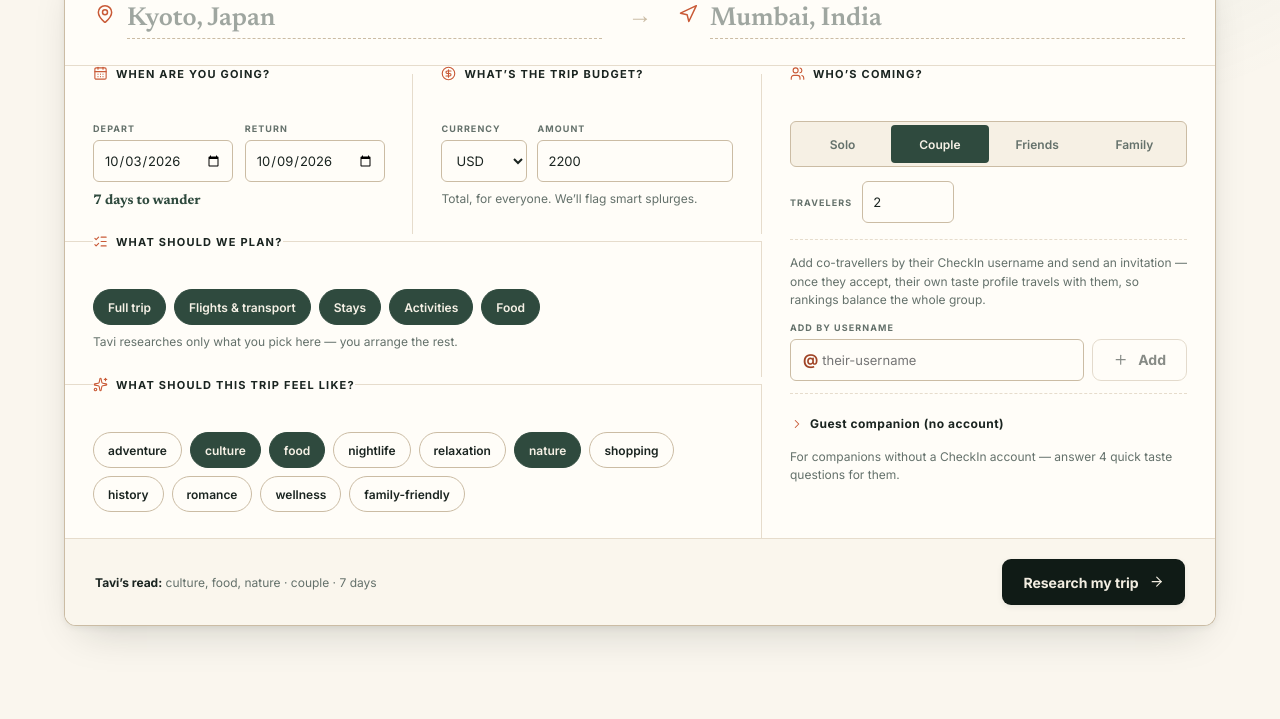
Scenario: shows an inline error when no CheckIn user has that username
The width and height of the screenshot is (1280, 719).
(page scrolled)
In the field labelled "Add by username": point(952, 360) top-left (820, 340), bottom-right (1083, 380), type "ghost"
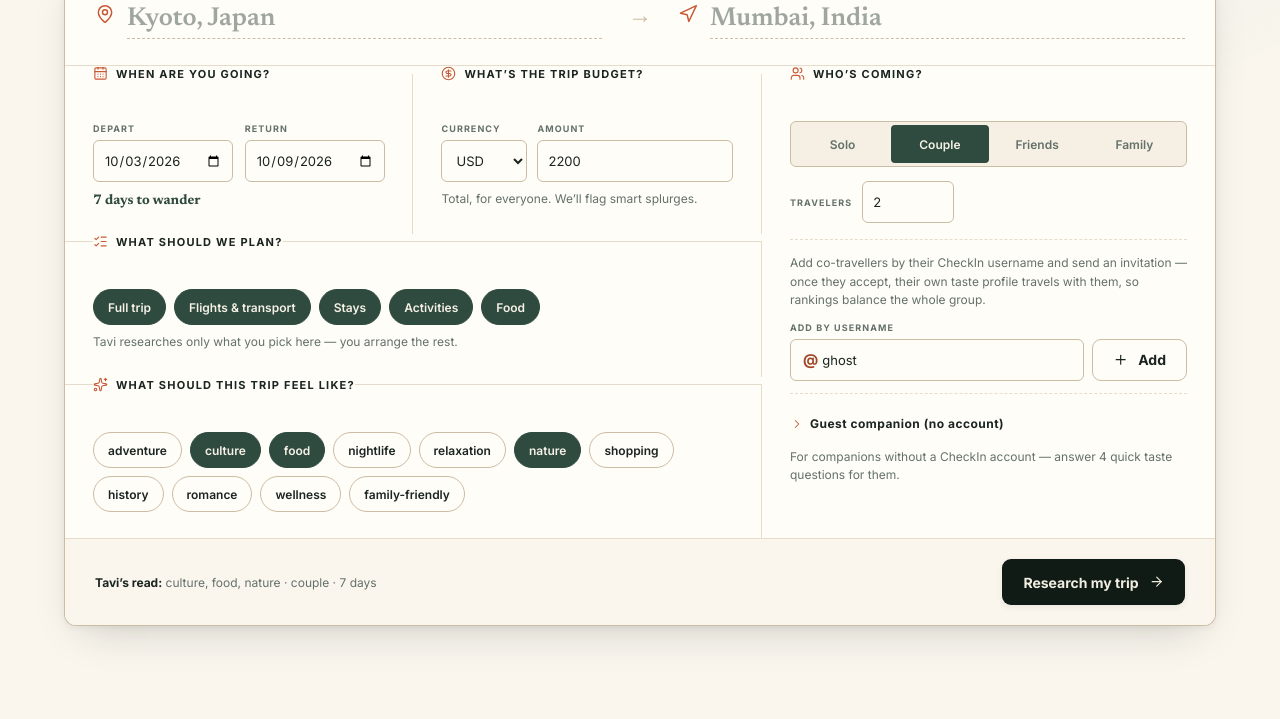
Click the button "Add": point(1139, 360) top-left (1092, 339), bottom-right (1187, 381)
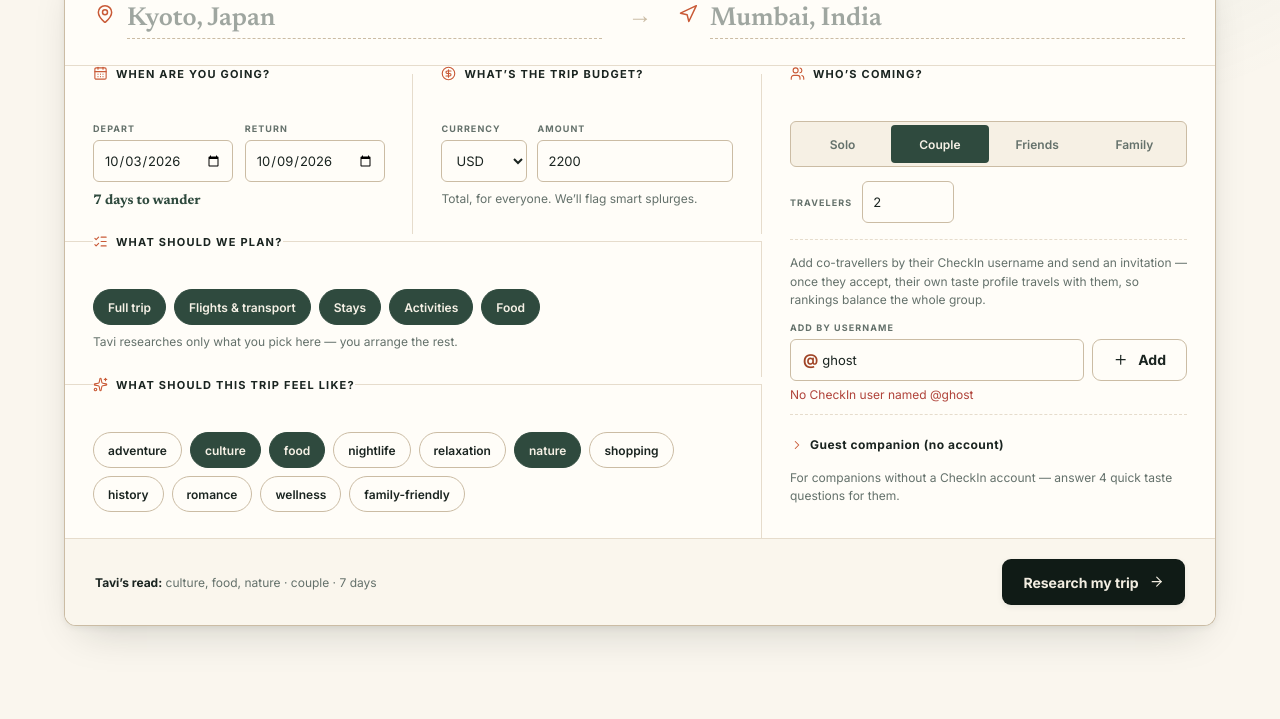
Expected: the button "Research my trip" is enabled, top-left (1002, 559), bottom-right (1185, 605)
Expected: the text "No CheckIn user named @ghost" is shown, top-left (790, 387), bottom-right (974, 402)
